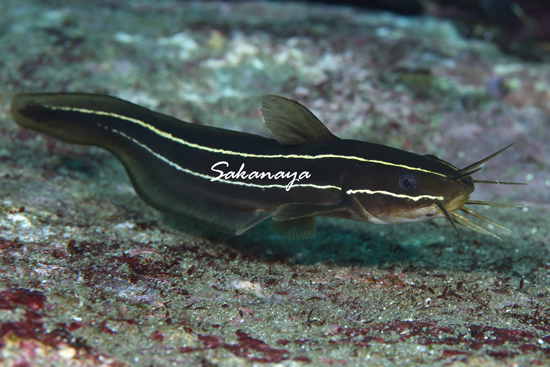gonzui: (10, 86, 495, 250)
